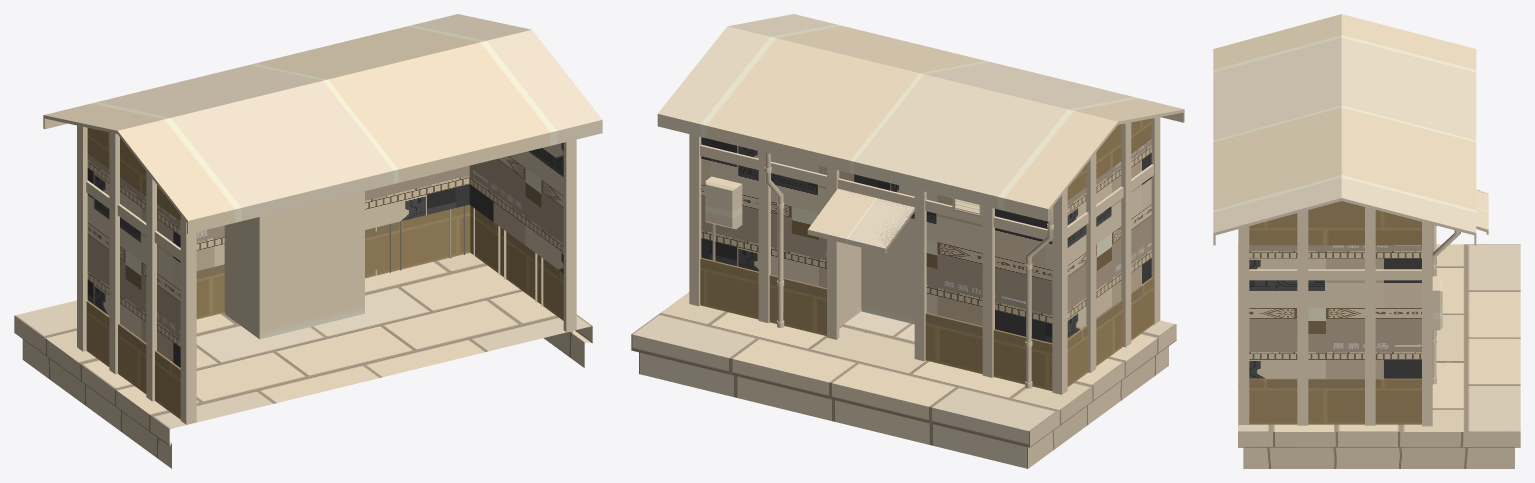
Rendered from Room1.fbx.
3 views of the same model, side by side, from view 1: azimuth 30°, elevation 25°; view 2: azimuth 150°, elevation 25°; view 3: azimuth 270°, elevation 25° (orthographic). The views are drawn at different scales.
Visible parts, largest first — view 1: pCube41; view 2: pCube41; view 3: pCube41.
Boxes of the visible parts, box(x1,y1,x2,y2) form: pCube41: box(14, 14, 602, 468); pCube41: box(631, 14, 1184, 468); pCube41: box(1213, 14, 1520, 468).
Size of the model in its own units: 4.1 by 2.77 by 2.84.
